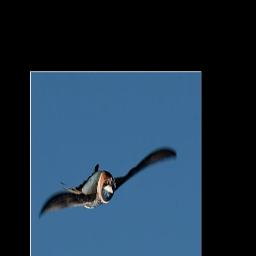Swallow: (39, 149, 178, 224)
